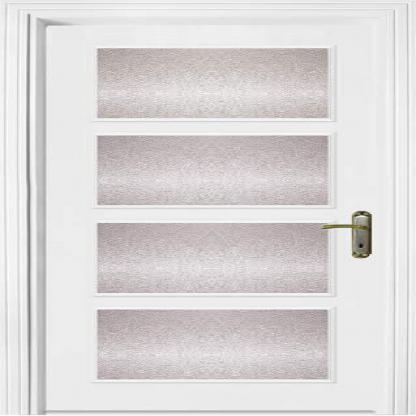door: (43, 24, 374, 411)
